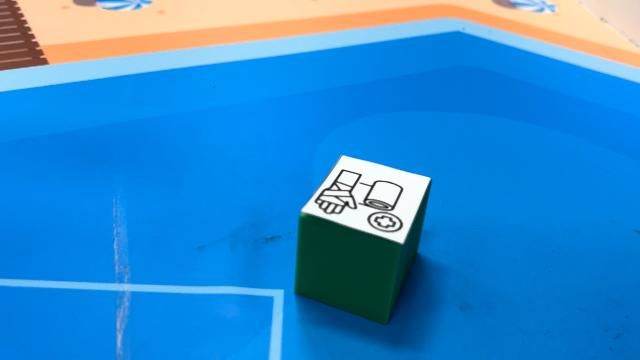bandage: (294, 154, 432, 324)
